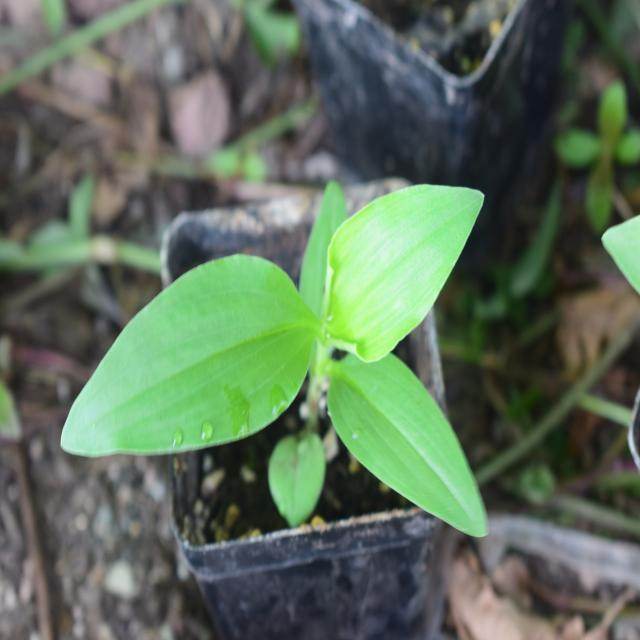Common Dayflower: (64, 172, 498, 536)
